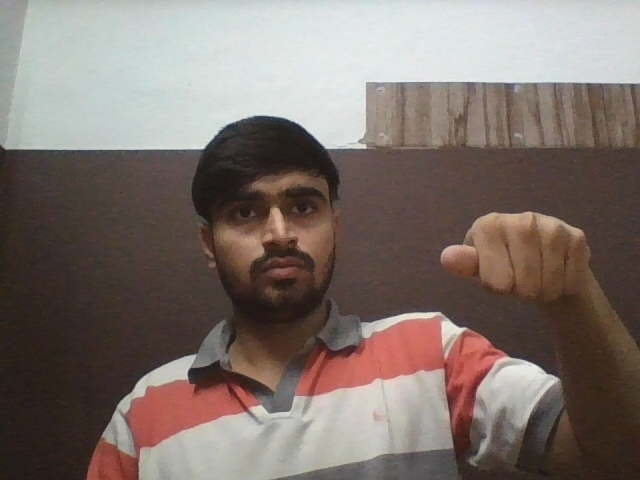Yes: (435, 210, 591, 304)
